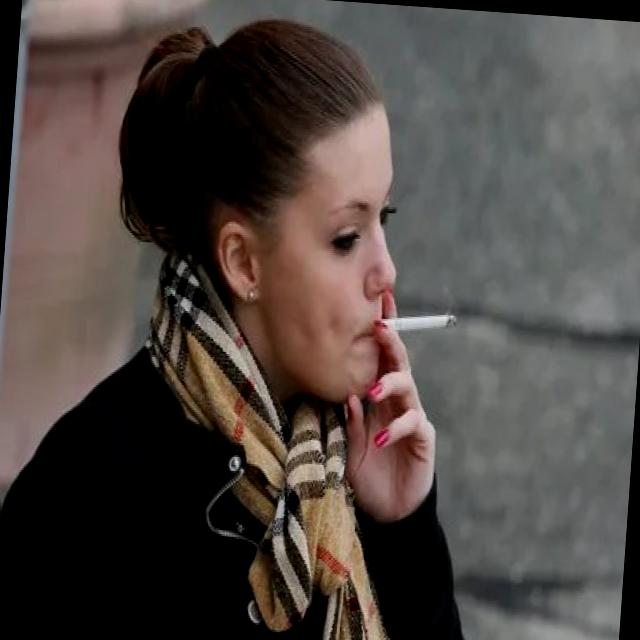smoke: (372, 302, 456, 348)
